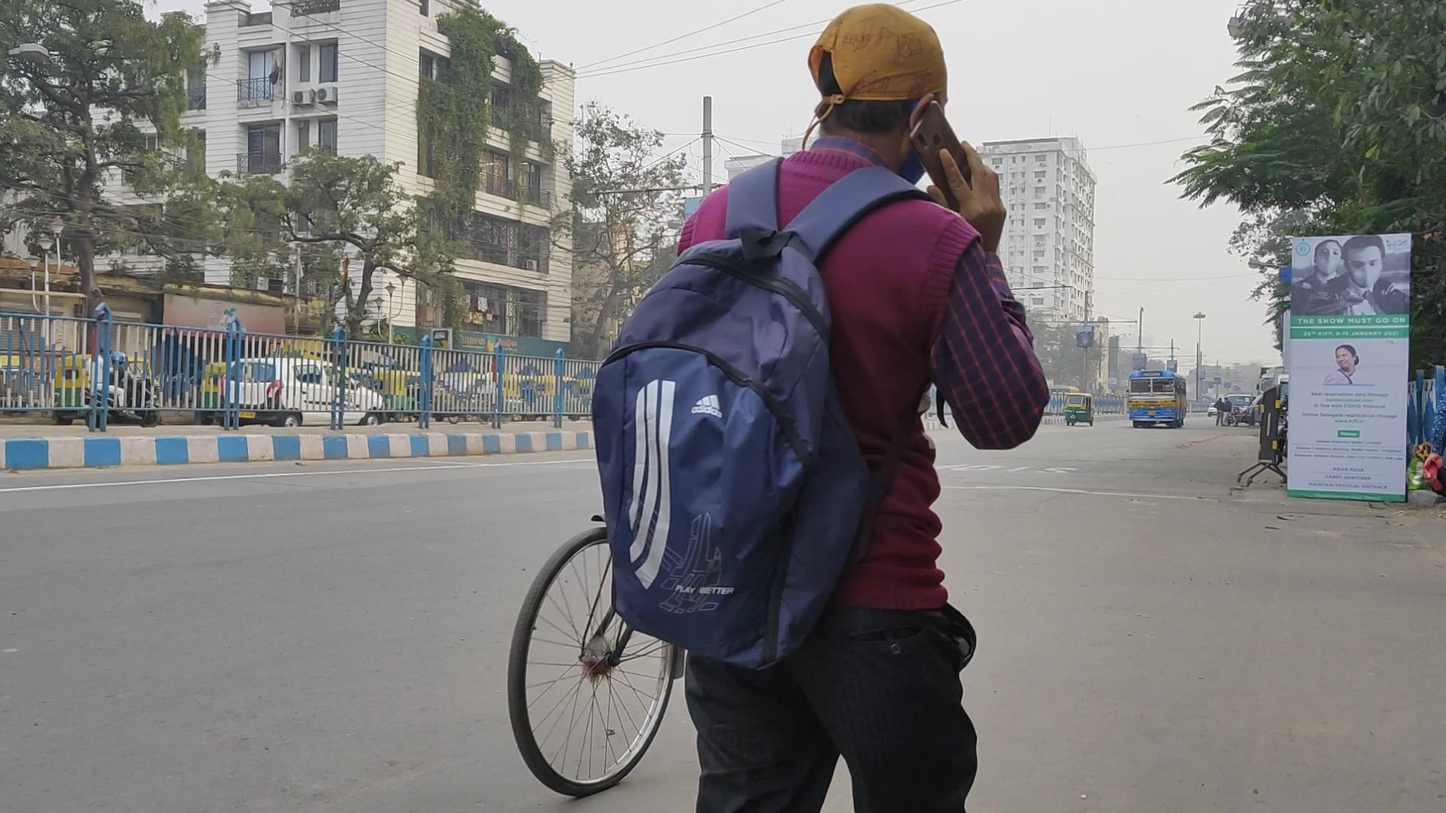Auto: (1063, 392, 1094, 427)
Bus: (1127, 369, 1188, 428)
car: (1225, 391, 1256, 428)
